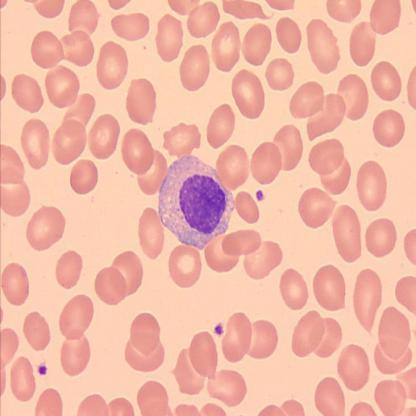Metamyelocyte: (156, 151, 238, 252)
